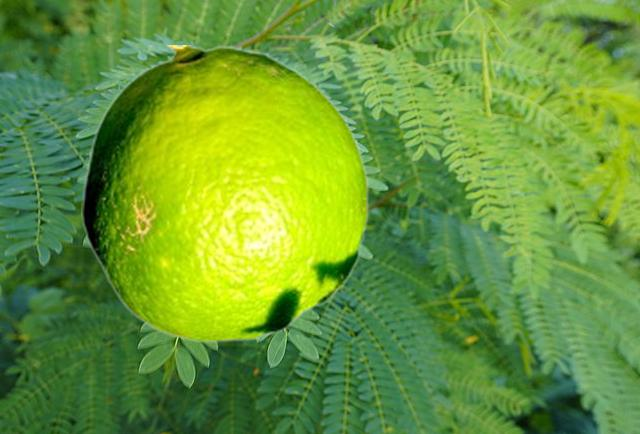dalandan: (81, 45, 368, 342)
